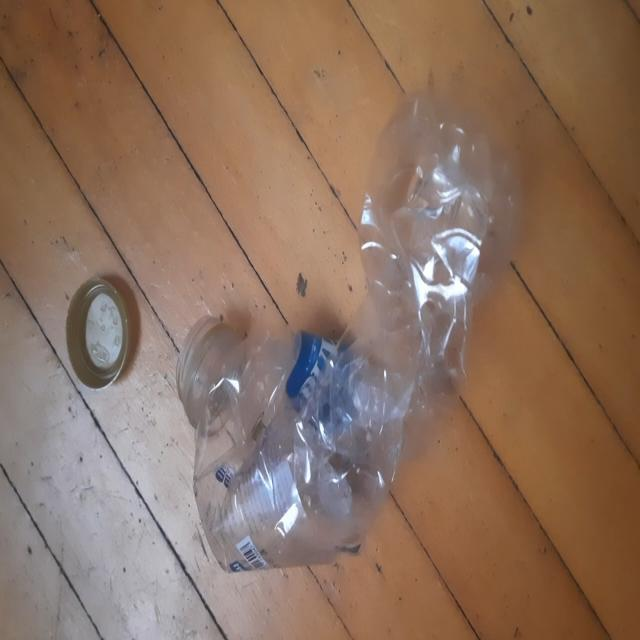Plastic: (187, 86, 519, 574)
